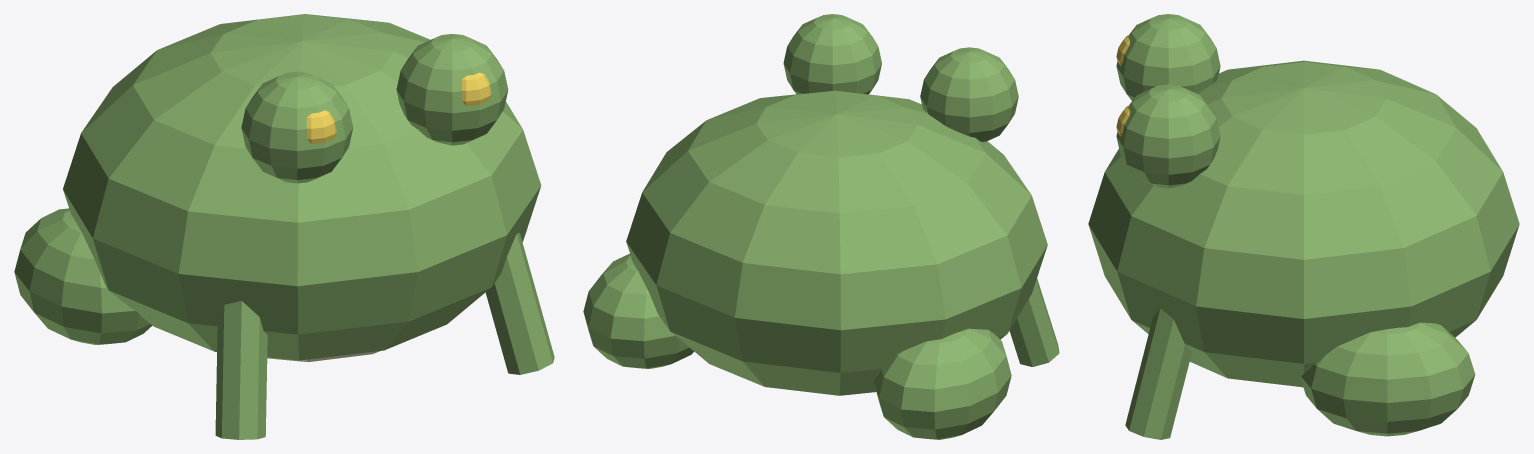
File: creature_toad_green.glb
The picture shows the model from 3 angles, left to right: view 1: azimuth 30°, elevation 25°; view 2: azimuth 150°, elevation 25°; view 3: azimuth 270°, elevation 25°; orthographic projection. The views are drawn at different scales.
Visible parts, largest first — view 1: creature_toad_green; view 2: creature_toad_green; view 3: creature_toad_green.
Boxes of the visible parts, left/top/right/bottom form: creature_toad_green: left=14, top=14, right=554, bottom=439; creature_toad_green: left=583, top=14, right=1059, bottom=439; creature_toad_green: left=1088, top=14, right=1519, bottom=439.
Bounding box in the file's own units: 1.4 × 1 × 1.23.
